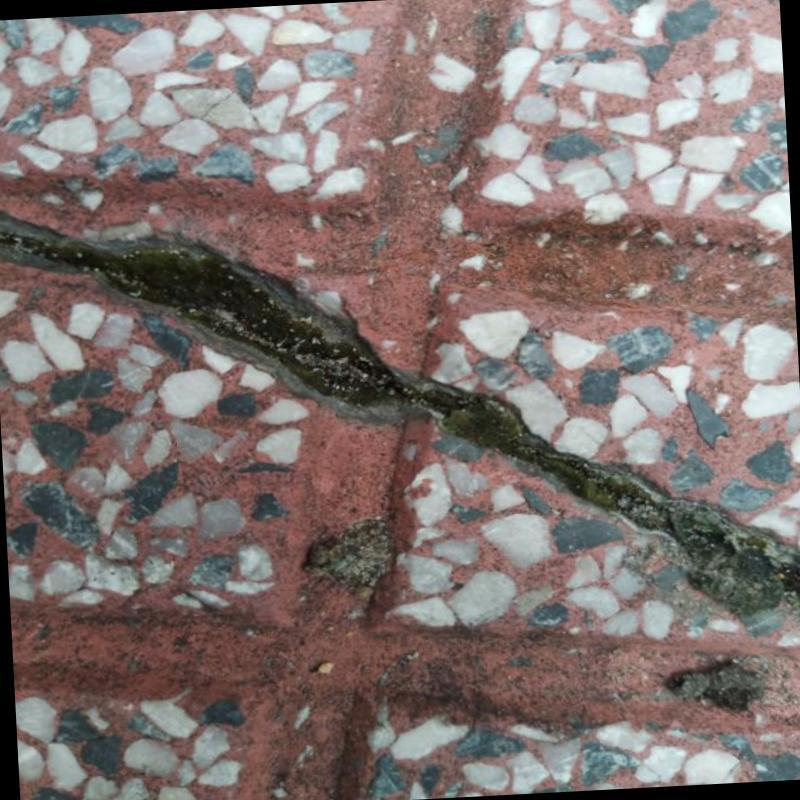pothole: (0, 213, 800, 617)
